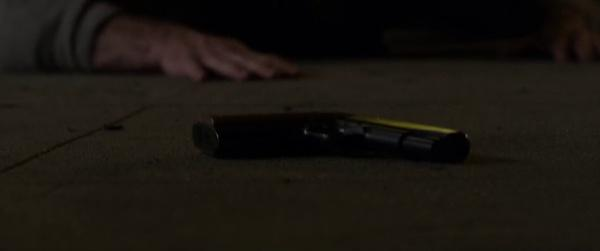Gun: (191, 109, 472, 167)
